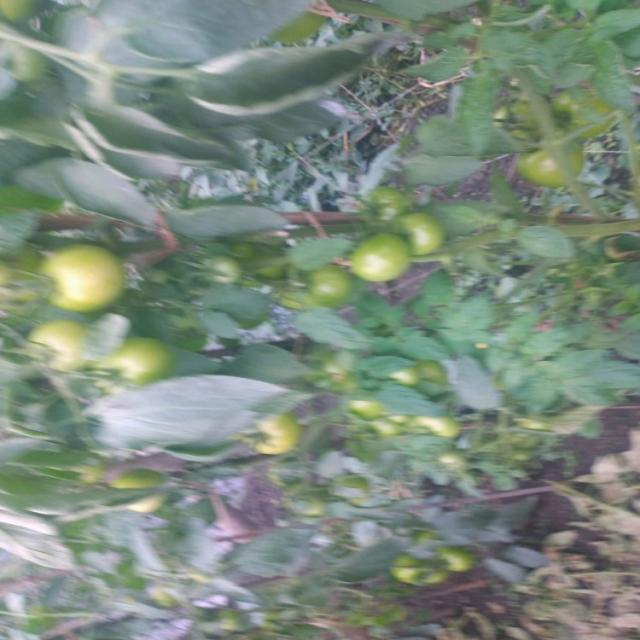tomato: (476, 92, 588, 196), (35, 229, 140, 327), (347, 222, 432, 296), (22, 317, 104, 387), (384, 545, 451, 606), (423, 524, 477, 592), (240, 409, 300, 469), (406, 200, 458, 265), (300, 256, 357, 315), (368, 181, 415, 236)
